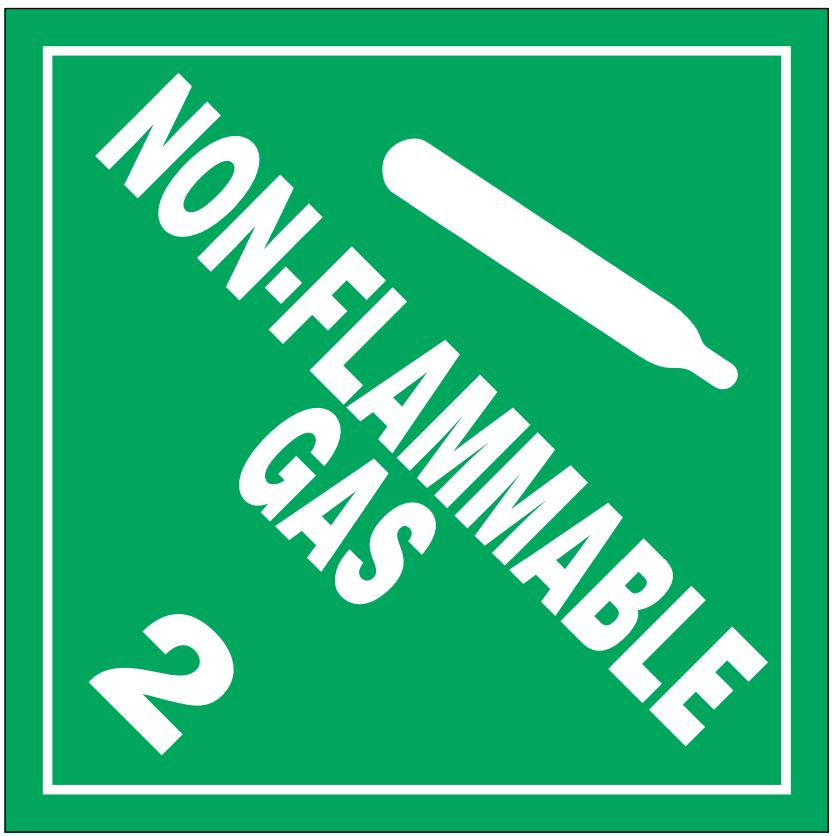non-flammable-gas: (1, 3, 832, 836)
